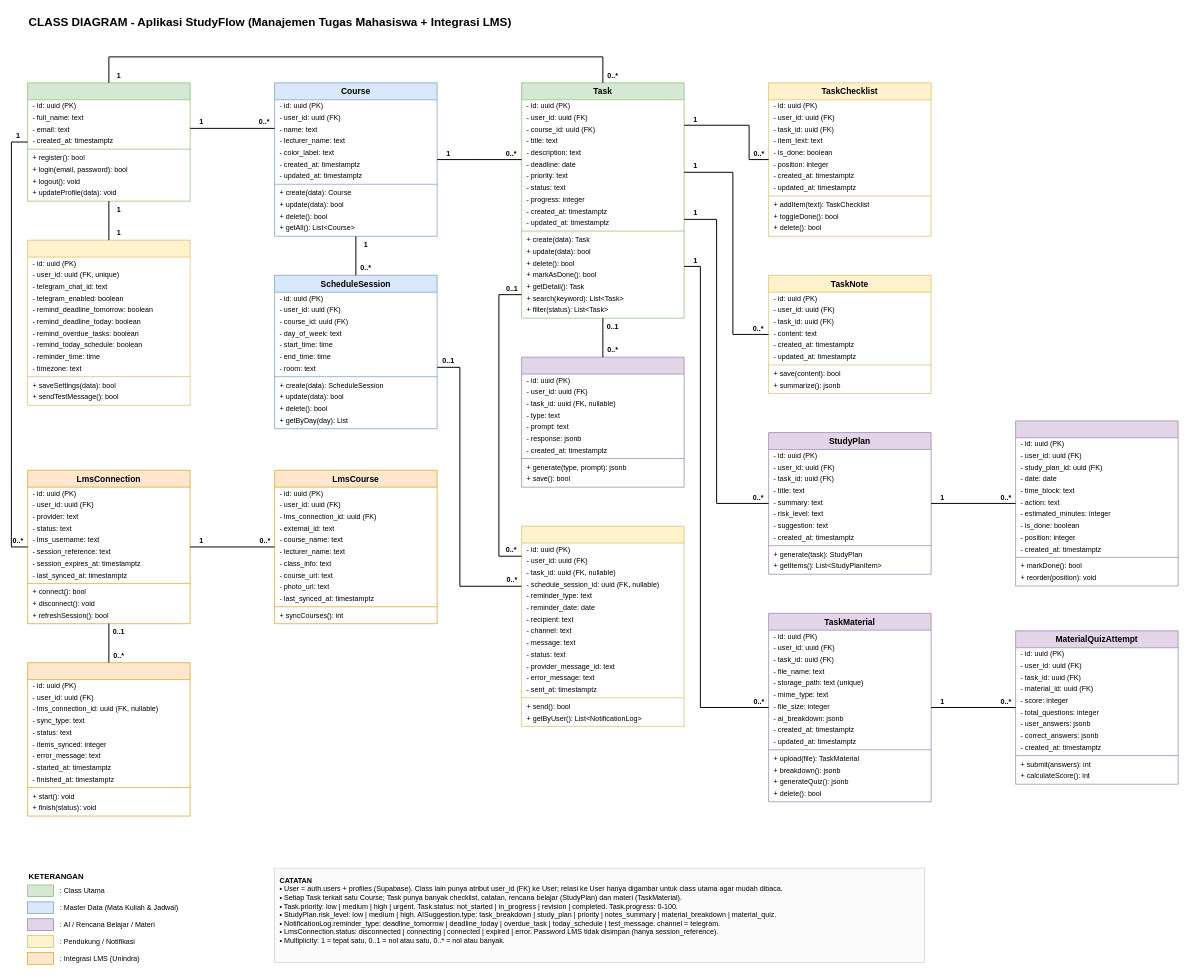
Some shapes in this 1190 by 976 pixel diagram are drawn without their labels. The shapes that lost their labels are listed below. From the top down, each one's box as (x1, y1, x2, y2) in pixels, then its label:
(27, 82, 190, 201): User
(27, 240, 190, 405): UserNotificationSetting
(521, 357, 684, 487): AISuggestion
(1015, 420, 1178, 586): StudyPlanItem
(521, 526, 684, 726): NotificationLog
(27, 662, 190, 816): LmsSyncLog
